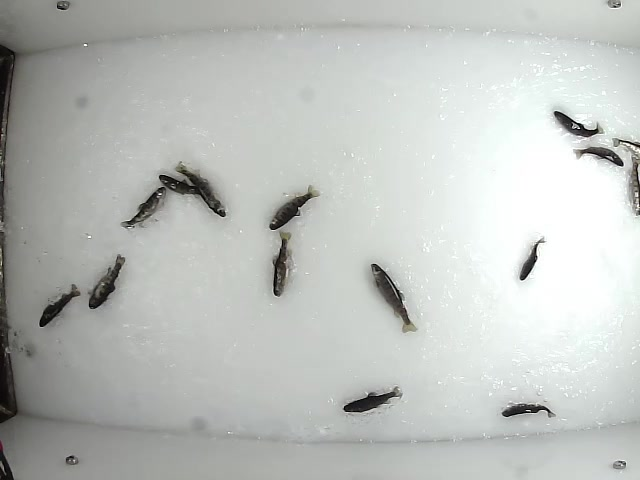fish: (369, 263, 419, 334), (172, 160, 229, 220), (266, 183, 323, 230), (119, 183, 169, 232), (85, 253, 127, 311), (37, 280, 82, 328), (340, 384, 406, 414), (269, 227, 294, 299), (515, 235, 548, 285), (551, 111, 605, 139), (573, 144, 626, 169), (158, 174, 207, 195), (500, 402, 557, 419), (627, 148, 640, 219)
